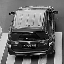motor: (14, 8, 43, 58)
